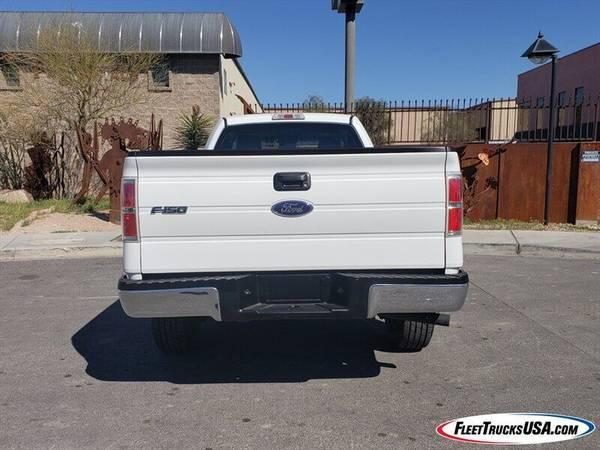Left_Taillight: (121, 174, 138, 245)
Rear_Bumper: (114, 270, 468, 328)
Rear_Windshield: (203, 110, 376, 150)
Right_Taillight: (443, 174, 464, 235)
Tailgate: (121, 150, 463, 278)
